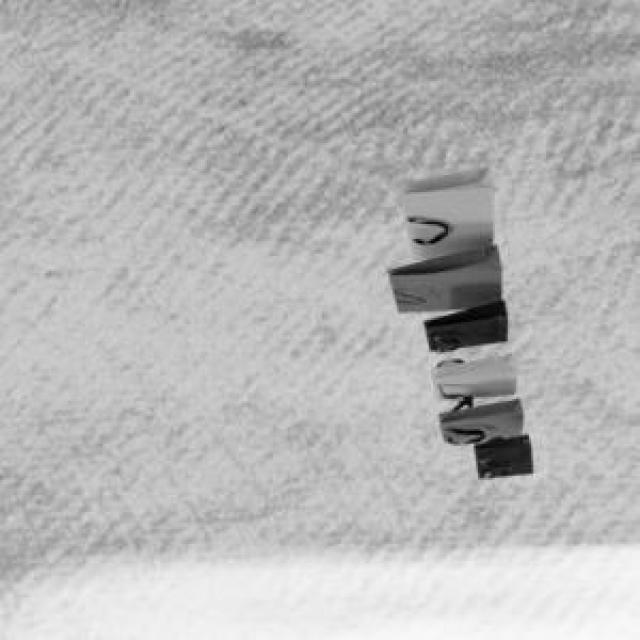paper: (384, 162, 529, 474)
